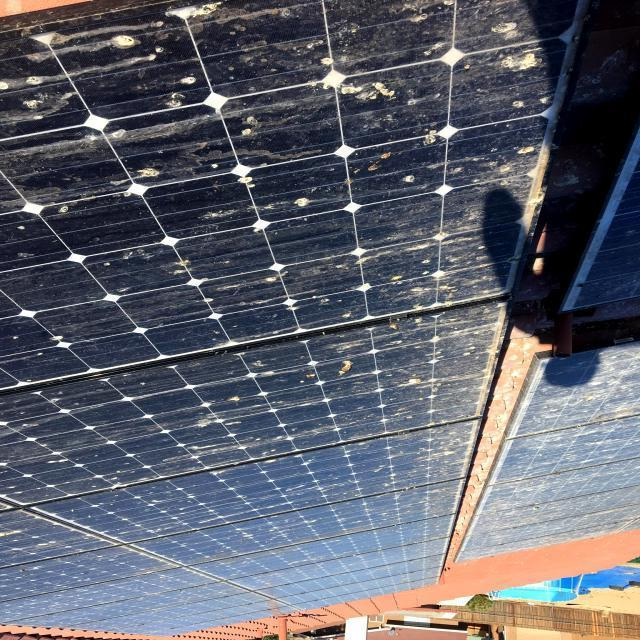soiled: (2, 0, 507, 623), (456, 7, 636, 568)
